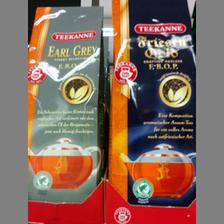Tee: (110, 0, 194, 204), (28, 4, 104, 202)
